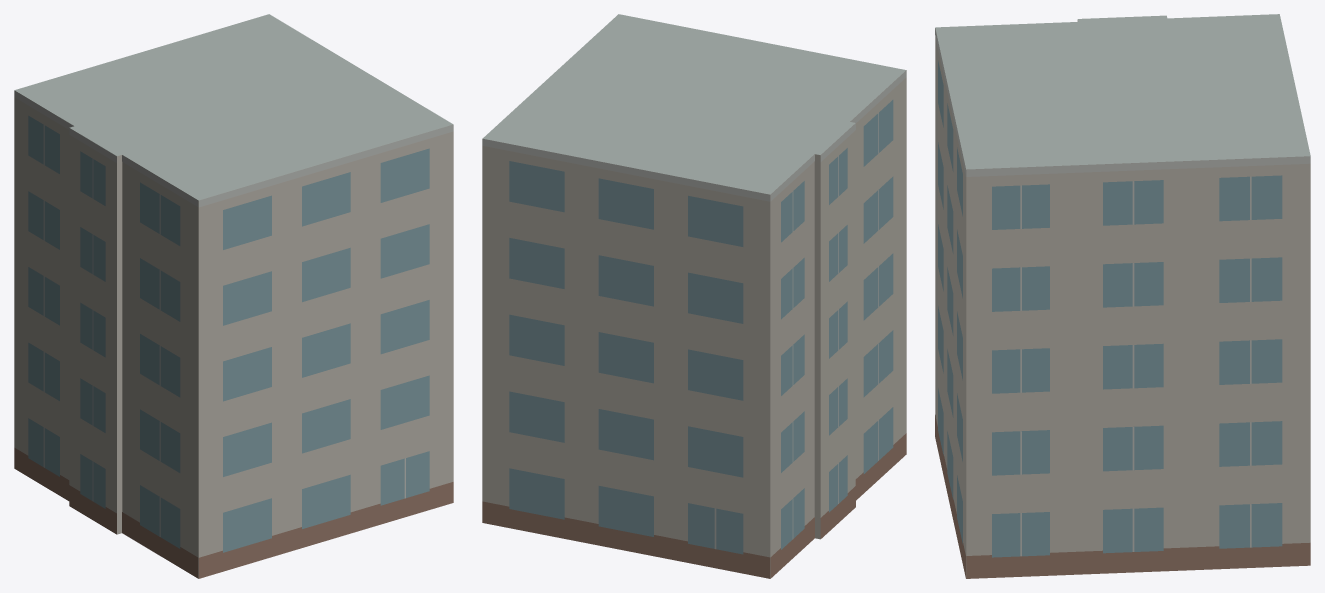
The model's file is survey-upis-32624279.glb.
3 views of the same model, side by side, from view 1: azimuth 30°, elevation 25°; view 2: azimuth 150°, elevation 25°; view 3: azimuth 270°, elevation 25° (orthographic). The views are drawn at different scales.
Visible parts, largest first — view 1: survey-upis-32624279.tmp; view 2: survey-upis-32624279.tmp; view 3: survey-upis-32624279.tmp.
Boxes of the visible parts, box(x1,y1,x2,y2) form: survey-upis-32624279.tmp: box(14, 14, 453, 578); survey-upis-32624279.tmp: box(482, 14, 906, 578); survey-upis-32624279.tmp: box(935, 14, 1310, 578).
Bounding box in the file's own units: 10.8 × 13.25 × 11.03.
